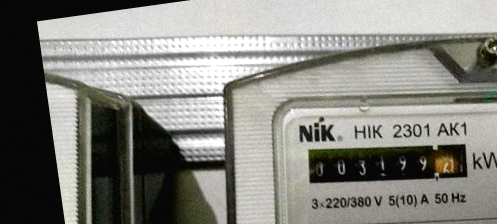0: (311, 157, 327, 178), (334, 155, 348, 175)
1: (376, 151, 387, 171)
3: (355, 156, 367, 176)
6: (440, 159, 452, 176)
9: (416, 153, 429, 172), (396, 152, 408, 171)
screen: (298, 122, 478, 206)
